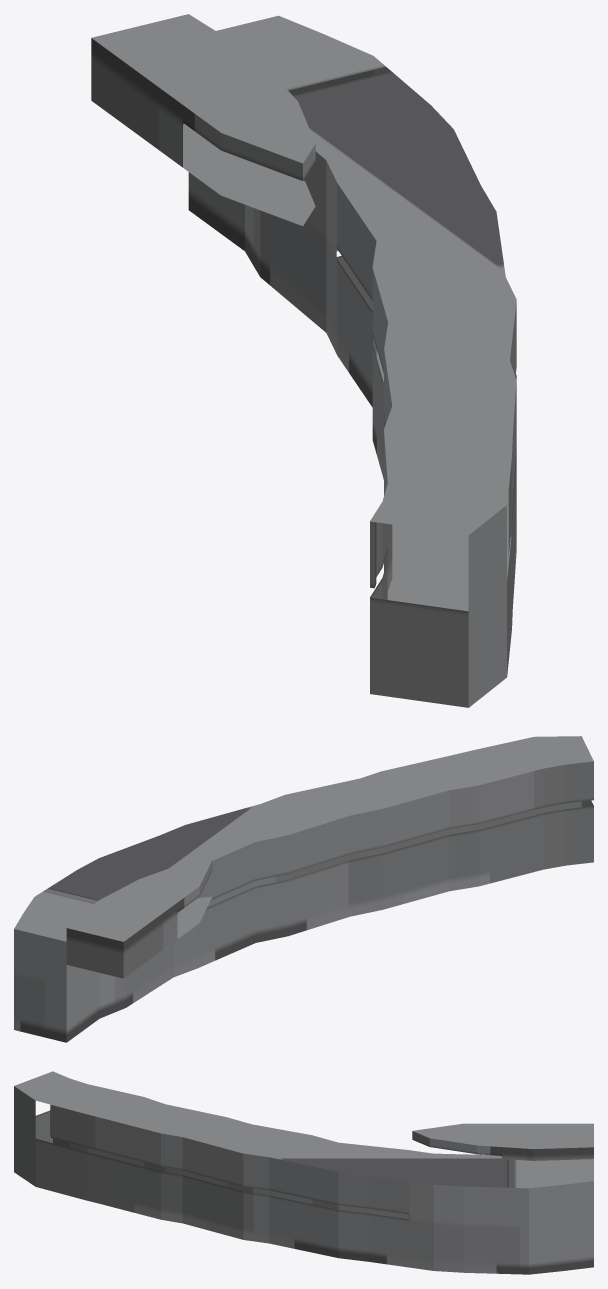
3 views of the same model, one above another, from view 1: azimuth 30°, elevation 25°; view 2: azimuth 150°, elevation 25°; view 3: azimuth 270°, elevation 25° (orthographic). The views are drawn at different scales.
Size of the model in its own units: 0.6912 by 0.27 by 1.45.
